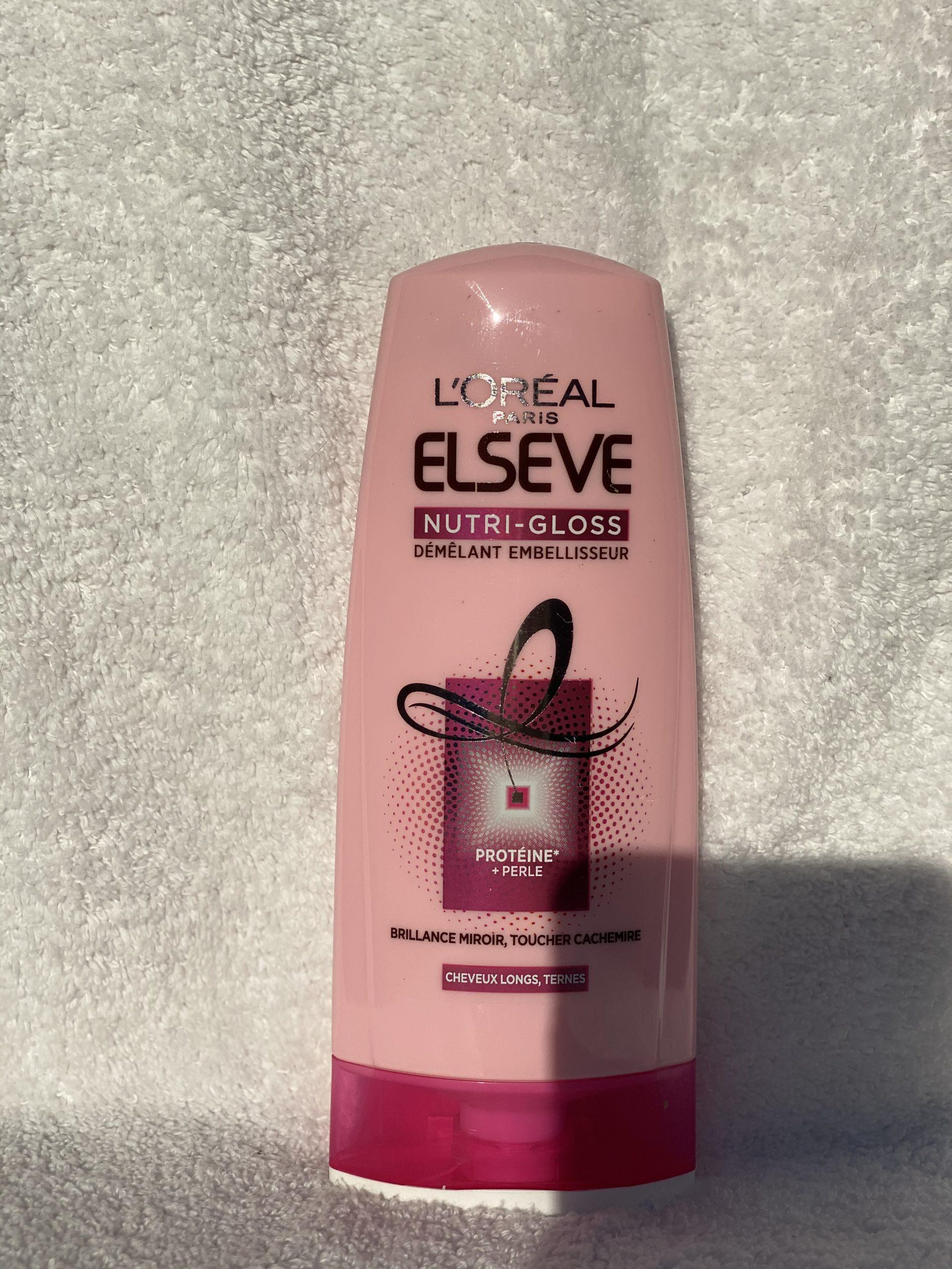plastic: (326, 246, 705, 1201)
